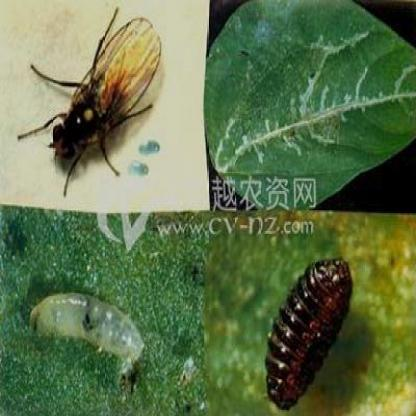whorl-maggot: (254, 252, 357, 412), (26, 284, 152, 372)
